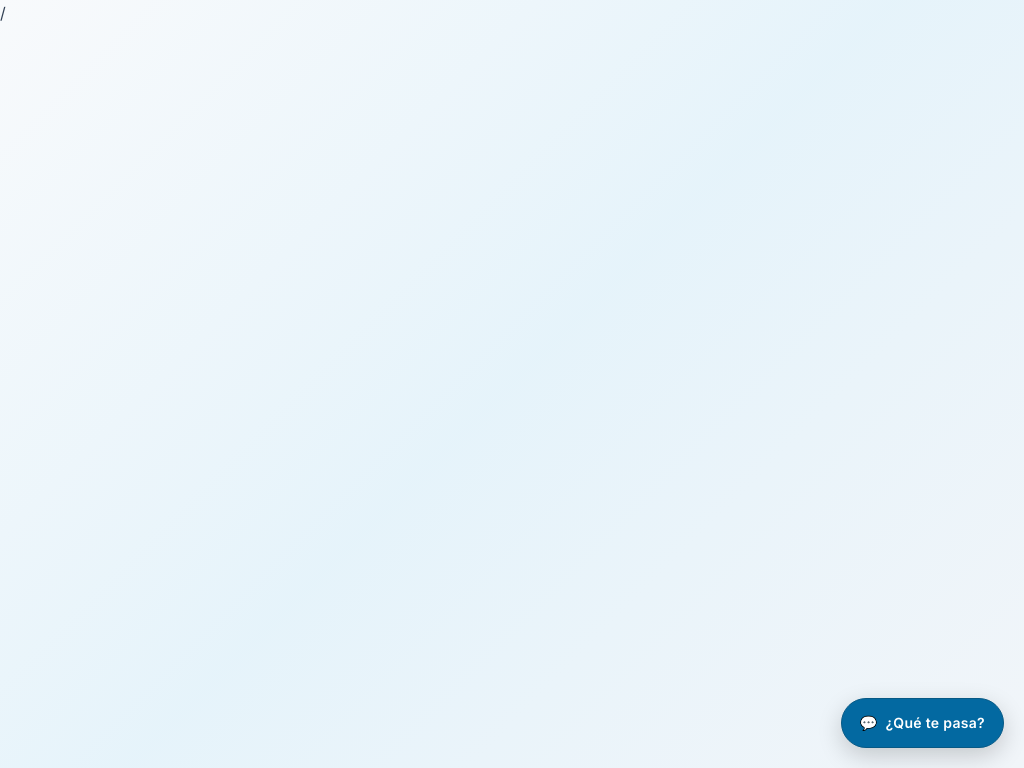
AsistenteSalud › si el servidor rechaza la consulta, el motivo aparece como respuesta del asistente
Click the button "💬 ¿Qué te pasa?" at (922, 723), box [841,698,1004,748]
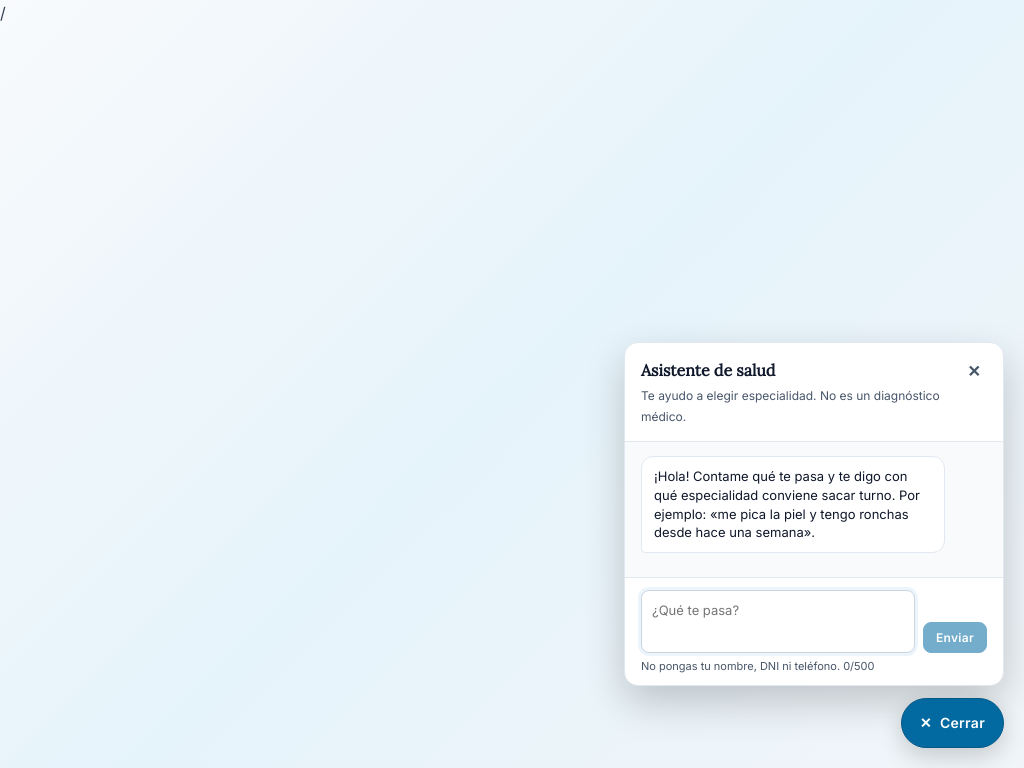
Type "Me duele la rodilla" into the text box named "Contanos qué te pasa" at (778, 621), box [641,590,915,652]
Then press Enter
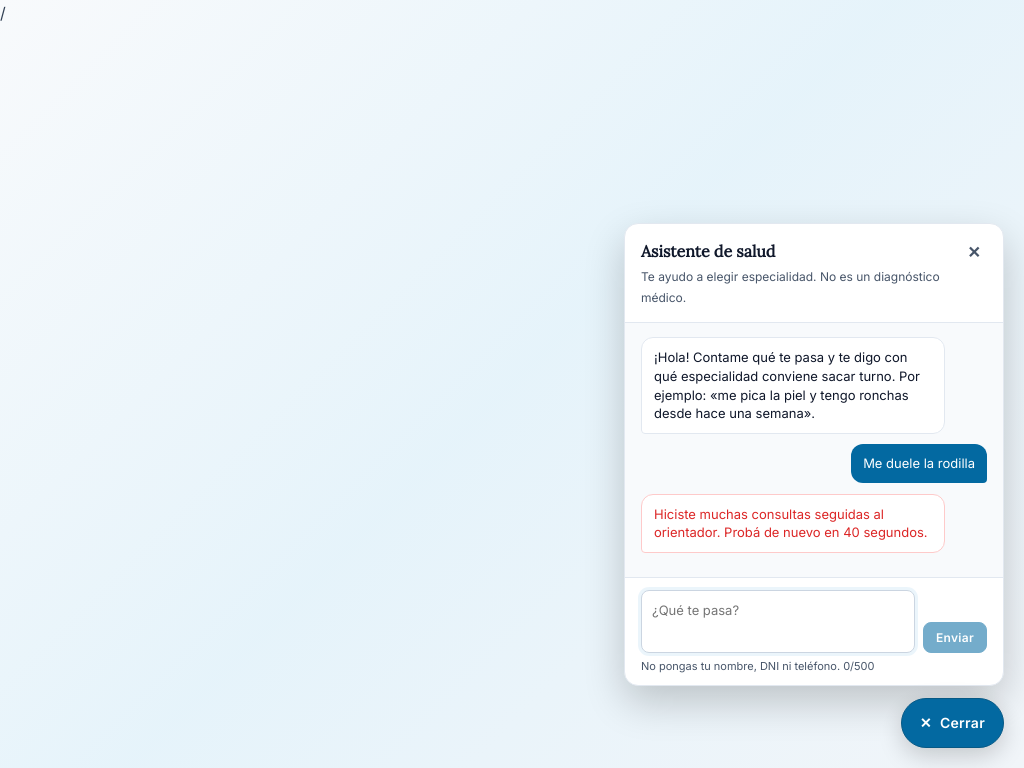
Expected: the text "muchas consultas seguidas" is shown, [654,506,928,540]
